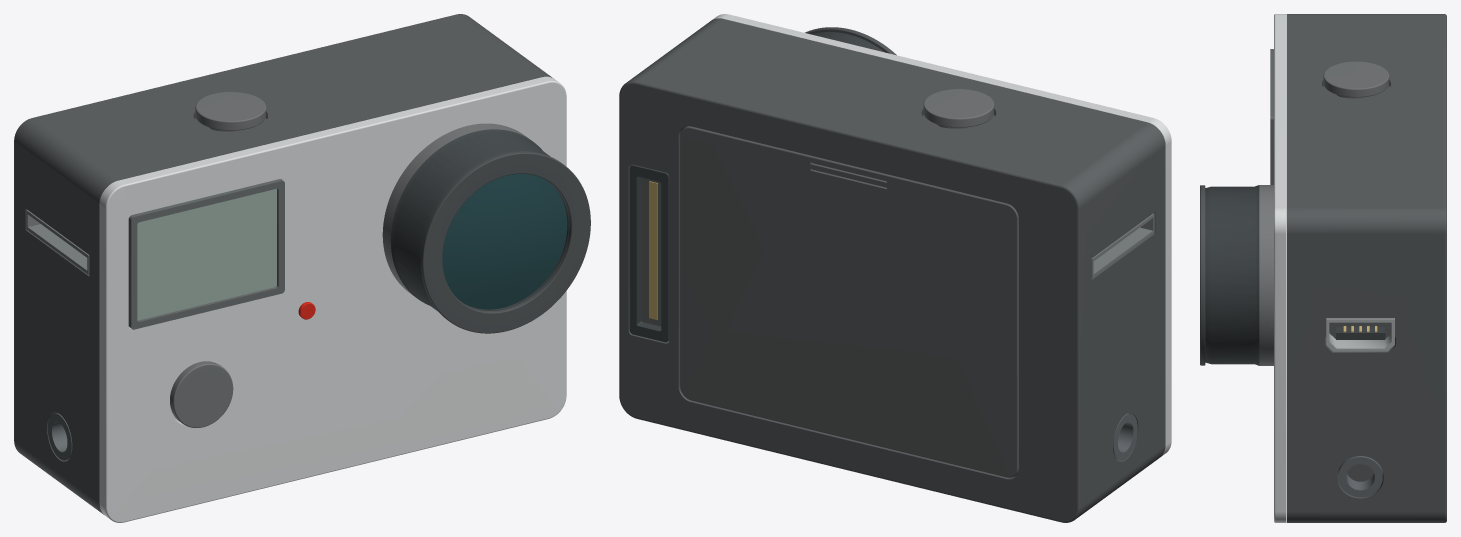
Rendered from gopro-hd-hero.glb.
3 renders of one model, left to right at view 1: azimuth 30°, elevation 25°; view 2: azimuth 150°, elevation 25°; view 3: azimuth 270°, elevation 25°, orthographic. The views are drawn at different scales.
Visible parts, largest first — view 1: G01_FRONT_SHELL, G02_REAR_HOUSING, G05_LCD_WINDOW, G09_LENS_GLASS, G08_LENS_FRONT_RING, G07_LENS_BARREL, G04_LCD_BEZEL, G10_POWER_BUTTON, G11_SHUTTER_BUTTON, G06_LENS_BASE, G18_SD_SOCKET_FRAME, G17_HDTV_SOCKET; view 2: G02_REAR_HOUSING, G03_BATTERY_DOOR, G01_FRONT_SHELL, G20_HERO_BUS_FRAME, G11_SHUTTER_BUTTON, G21_HERO_BUS_INSERT, G18_SD_SOCKET_FRAME, G22_HERO_BUS_CONTACT_BAR, G17_HDTV_SOCKET; view 3: G02_REAR_HOUSING, G07_LENS_BARREL, G01_FRONT_SHELL, G06_LENS_BASE, G11_SHUTTER_BUTTON, G13_MINI_USB_FRAME, G16_TV_AUDIO_SOCKET, G08_LENS_FRONT_RING, G14_MINI_USB_TONGUE, G04_LCD_BEZEL.
Part boxes in pixels (x1,y1,x2,y2): G01_FRONT_SHELL: (99, 76, 566, 522); G02_REAR_HOUSING: (14, 14, 552, 514); G05_LCD_WINDOW: (137, 189, 276, 320); G09_LENS_GLASS: (442, 174, 567, 309); G08_LENS_FRONT_RING: (420, 151, 590, 333); G07_LENS_BARREL: (390, 129, 569, 310); G04_LCD_BEZEL: (128, 179, 284, 329); G10_POWER_BUTTON: (170, 361, 233, 427); G11_SHUTTER_BUTTON: (195, 92, 266, 131); G06_LENS_BASE: (382, 123, 528, 296); G18_SD_SOCKET_FRAME: (26, 210, 89, 274); G17_HDTV_SOCKET: (47, 413, 72, 460); G02_REAR_HOUSING: (619, 18, 1165, 522); G03_BATTERY_DOOR: (680, 126, 1018, 477); G01_FRONT_SHELL: (712, 14, 1171, 456); G20_HERO_BUS_FRAME: (629, 164, 669, 342); G11_SHUTTER_BUTTON: (923, 89, 994, 128); G21_HERO_BUS_INSERT: (642, 177, 661, 326); G18_SD_SOCKET_FRAME: (1091, 213, 1154, 278); G22_HERO_BUS_CONTACT_BAR: (649, 181, 657, 319); G17_HDTV_SOCKET: (1113, 413, 1137, 460); G02_REAR_HOUSING: (1286, 14, 1446, 522); G07_LENS_BARREL: (1205, 185, 1259, 365); G01_FRONT_SHELL: (1274, 14, 1285, 522); G06_LENS_BASE: (1259, 185, 1273, 365); G11_SHUTTER_BUTTON: (1323, 61, 1389, 98); G13_MINI_USB_FRAME: (1326, 318, 1394, 351); G16_TV_AUDIO_SOCKET: (1338, 456, 1382, 497); G08_LENS_FRONT_RING: (1200, 185, 1205, 365); G14_MINI_USB_TONGUE: (1336, 327, 1385, 339); G04_LCD_BEZEL: (1270, 49, 1273, 184).
Bounding box in the file's own units: 0.06 × 0.0432 × 0.03.
